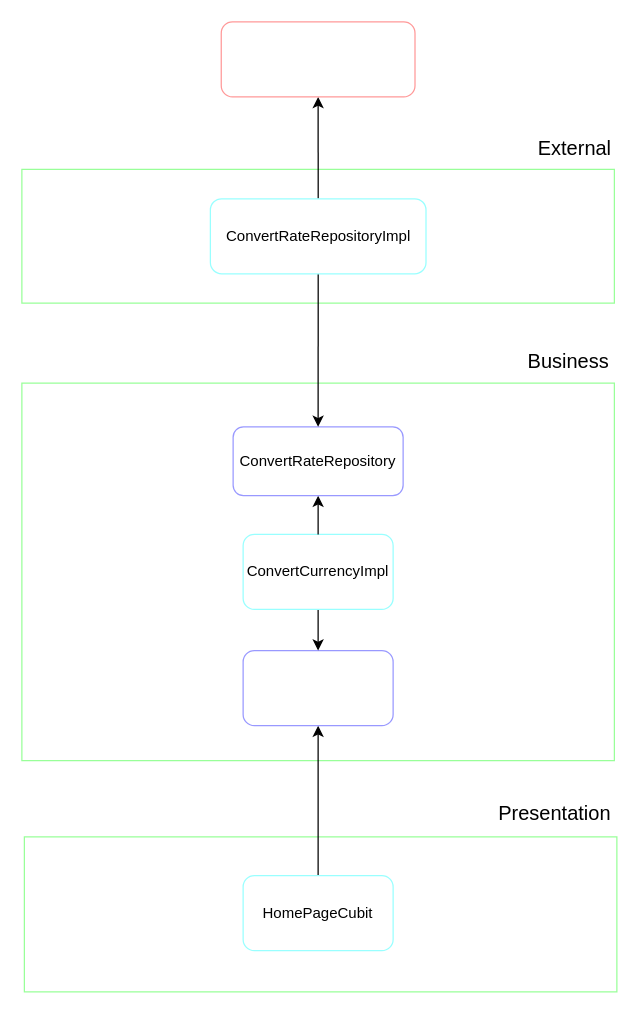
The diagram is 639 pixels wide and 1014 high, and some of its shapes have lost their labels. Each missing label, with the centre of its shape:
ConvertCurrency: (317,687)
Hive: (317,59)
